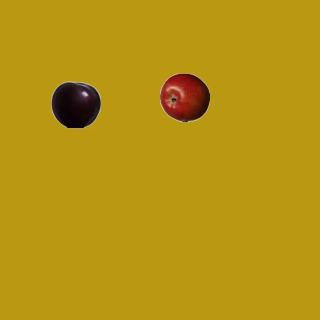Apple Braeburn: (159, 72, 209, 122)
Cherry Wax Black: (50, 79, 100, 129)
